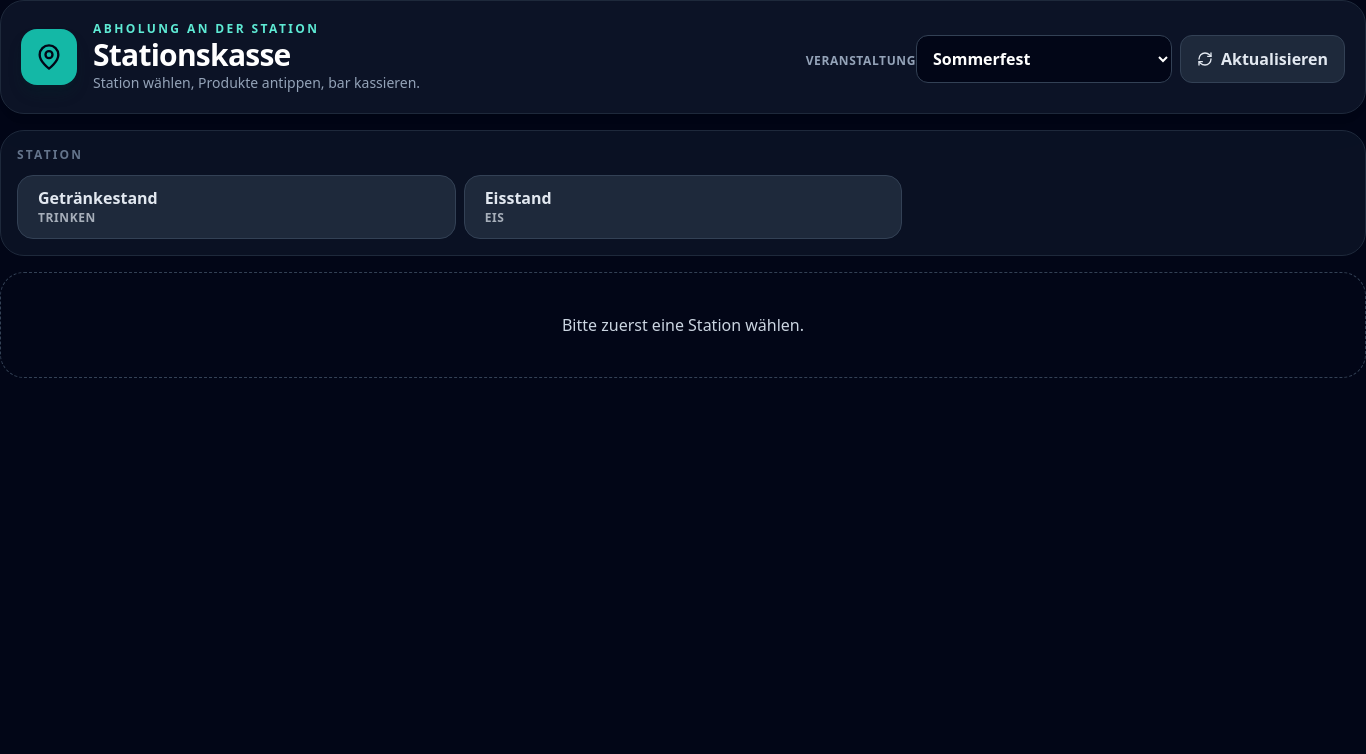
Test: Stationskasse › zeigt nur Produkte der gewählten Station, ein Produkt einer anderen Station bleibt weg
Click the button "Getränkestand Trinken": [98, 198] box [17, 175, 456, 239]
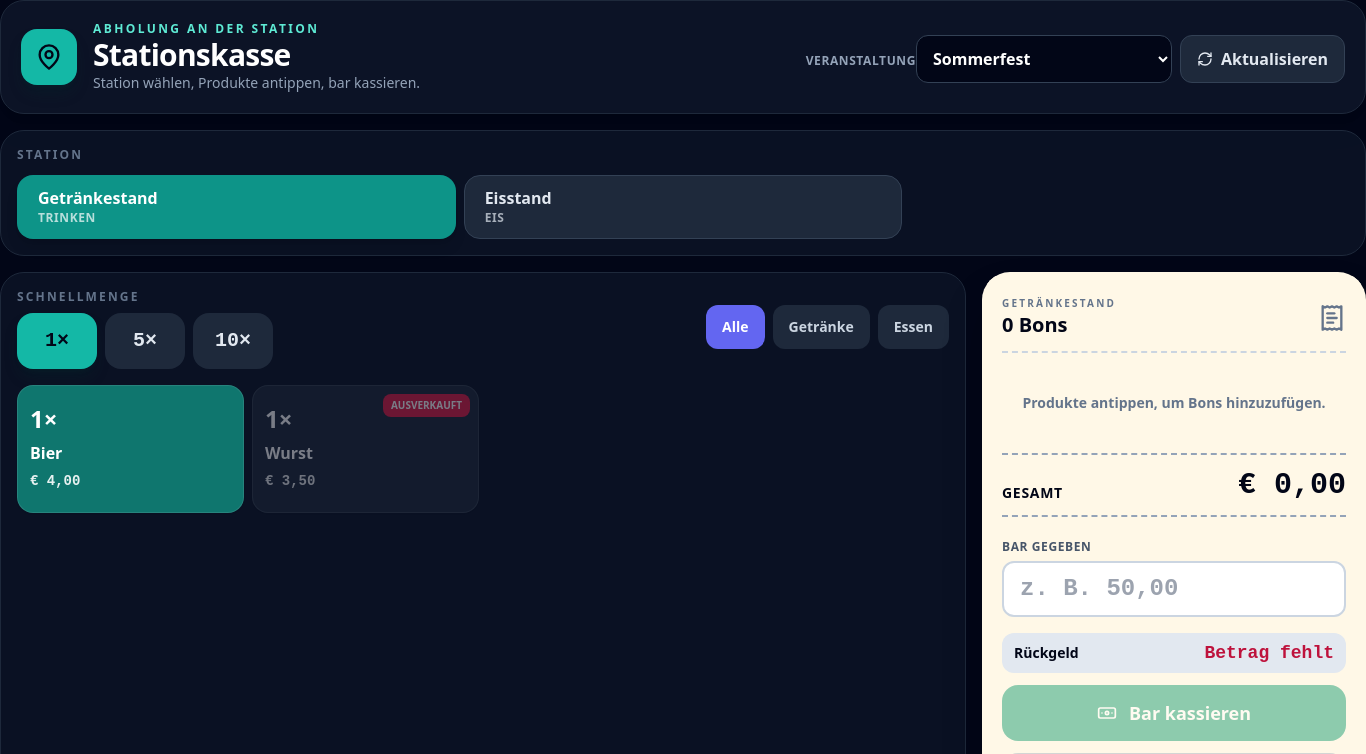
Check: the text "Bier" is shown, box [30, 442, 62, 464]
